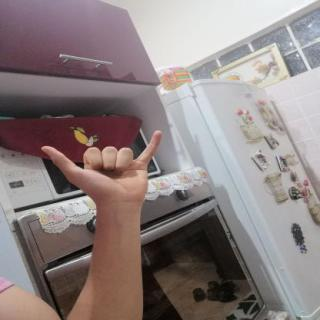YA: (33, 124, 169, 215)
